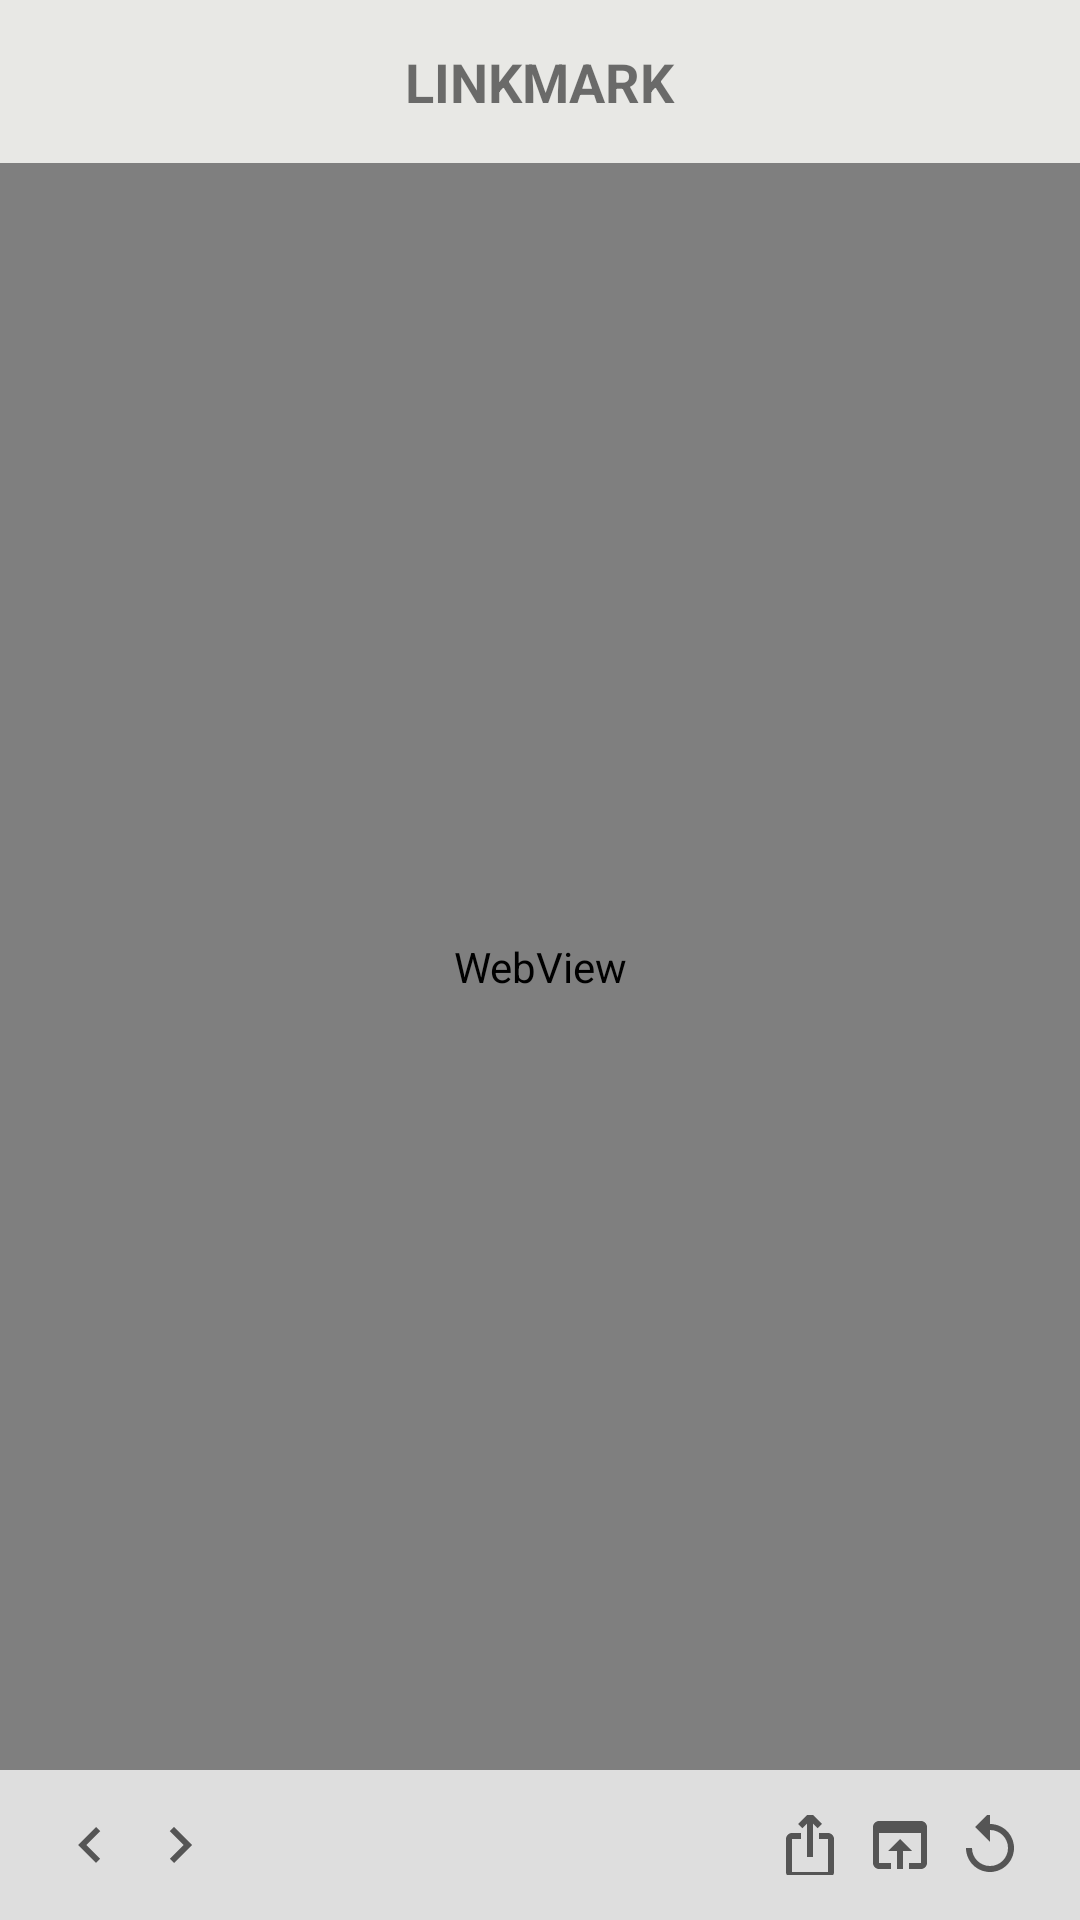

Named icons in this screenshot (1080px×1920px) and their bounding boxes, Rect(x1, y1, x2, y2):
web back: Rect(78, 1827, 100, 1863)
web browser: Rect(873, 1821, 927, 1869)
web forward: Rect(170, 1827, 192, 1863)
web reload: Rect(966, 1815, 1014, 1872)
web share: Rect(786, 1815, 834, 1875)
